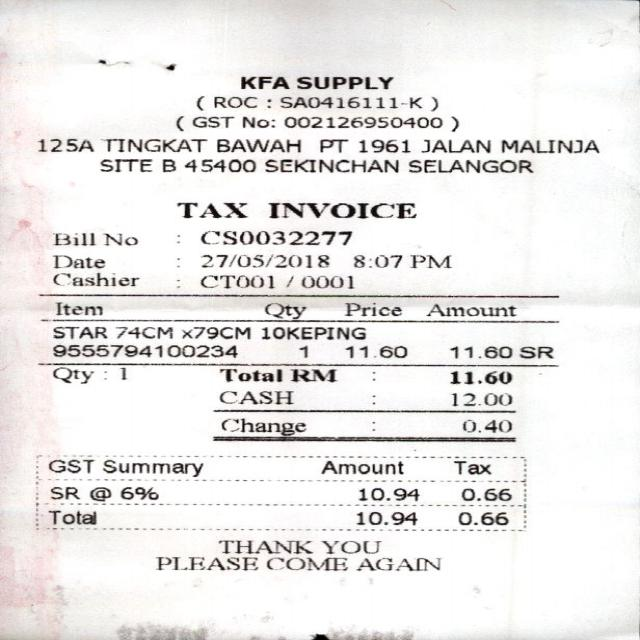text: (50, 344, 235, 357), (267, 202, 414, 218), (199, 230, 349, 244), (262, 157, 396, 172), (100, 458, 202, 476), (282, 115, 439, 126), (198, 254, 326, 267), (218, 368, 335, 382), (407, 159, 532, 172), (278, 96, 419, 107), (220, 416, 306, 434), (100, 138, 204, 152), (154, 555, 255, 569), (258, 326, 362, 339), (448, 345, 552, 358), (294, 75, 391, 88), (499, 139, 596, 152), (352, 254, 449, 267), (319, 459, 402, 474), (214, 138, 299, 152), (354, 556, 438, 570), (265, 556, 345, 570), (218, 540, 311, 552), (51, 232, 136, 245), (51, 272, 136, 285), (425, 303, 514, 315), (175, 202, 244, 217), (198, 274, 272, 287), (217, 390, 291, 403), (182, 157, 252, 170), (354, 510, 417, 524), (421, 139, 488, 152), (447, 370, 510, 383), (357, 487, 418, 500), (181, 326, 247, 338), (449, 392, 509, 405), (458, 486, 510, 501), (51, 254, 104, 268), (343, 302, 400, 315), (455, 510, 507, 524), (344, 345, 404, 357), (46, 509, 94, 524), (300, 274, 351, 288), (320, 540, 379, 552), (98, 157, 148, 171), (53, 301, 103, 315), (51, 366, 92, 383), (238, 74, 287, 88), (50, 326, 105, 338), (262, 302, 303, 318), (358, 139, 408, 152), (38, 138, 92, 150), (47, 458, 92, 472), (462, 419, 510, 432), (114, 327, 170, 338), (450, 459, 488, 474), (118, 486, 157, 499), (211, 95, 254, 106), (191, 115, 232, 126), (48, 485, 79, 499), (317, 138, 345, 152), (240, 115, 273, 126), (88, 485, 110, 500), (160, 157, 174, 170), (296, 344, 308, 356), (173, 114, 181, 130), (116, 365, 125, 379), (449, 115, 456, 131), (429, 96, 435, 110), (194, 96, 200, 109), (285, 275, 290, 286)
